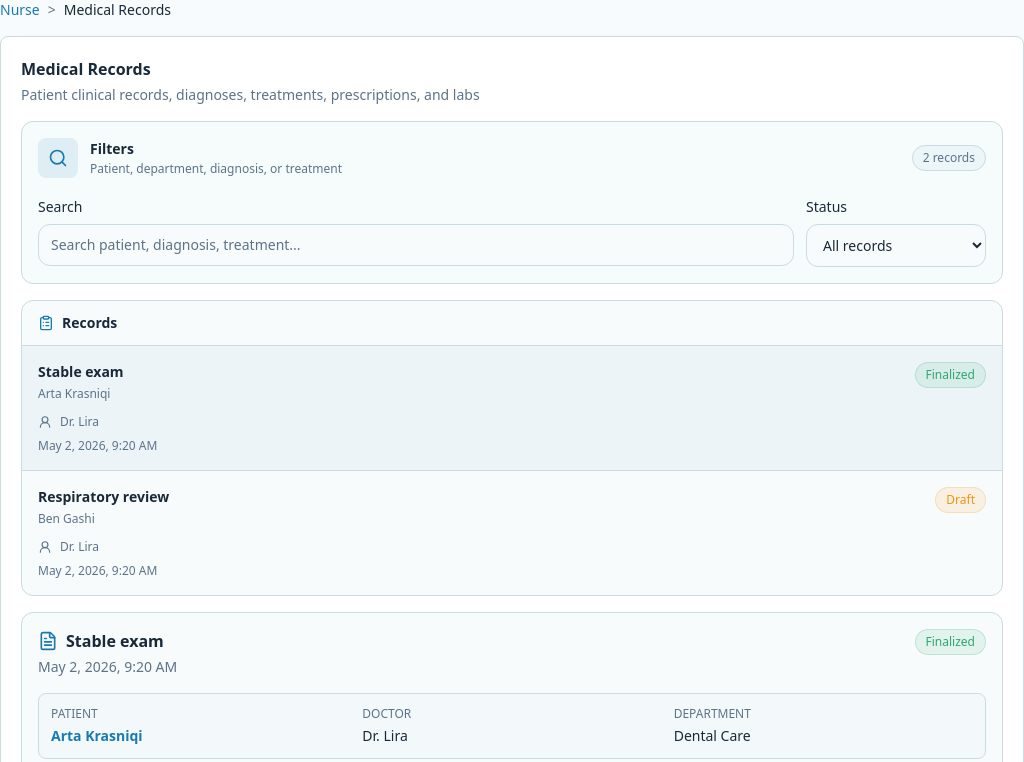
it: NurseMedicalRecordsPage › filters records by status and search text
Expected: the text "Stable exam" is shown, [38,362,124,382]
Expected: the text "Respiratory review" is shown, [38,487,169,507]
Select "Draft" in the dropdown labelled "Status". click: (896, 246)
box: [806,224,986,267]
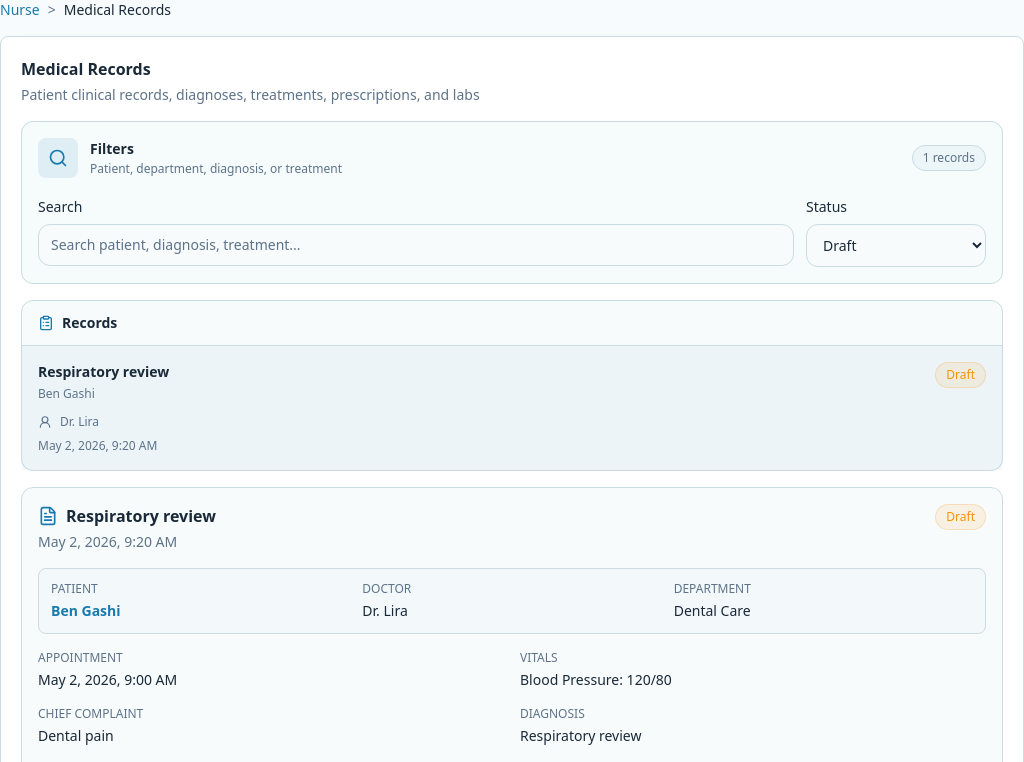
Expected: the 1st text "Respiratory review" is shown, [38,362,169,382]
Result: no links "Stable exam" are shown
Type "missing diagnosis" into the field labelled "Search". click: (416, 245)
box: [38,224,794,266]
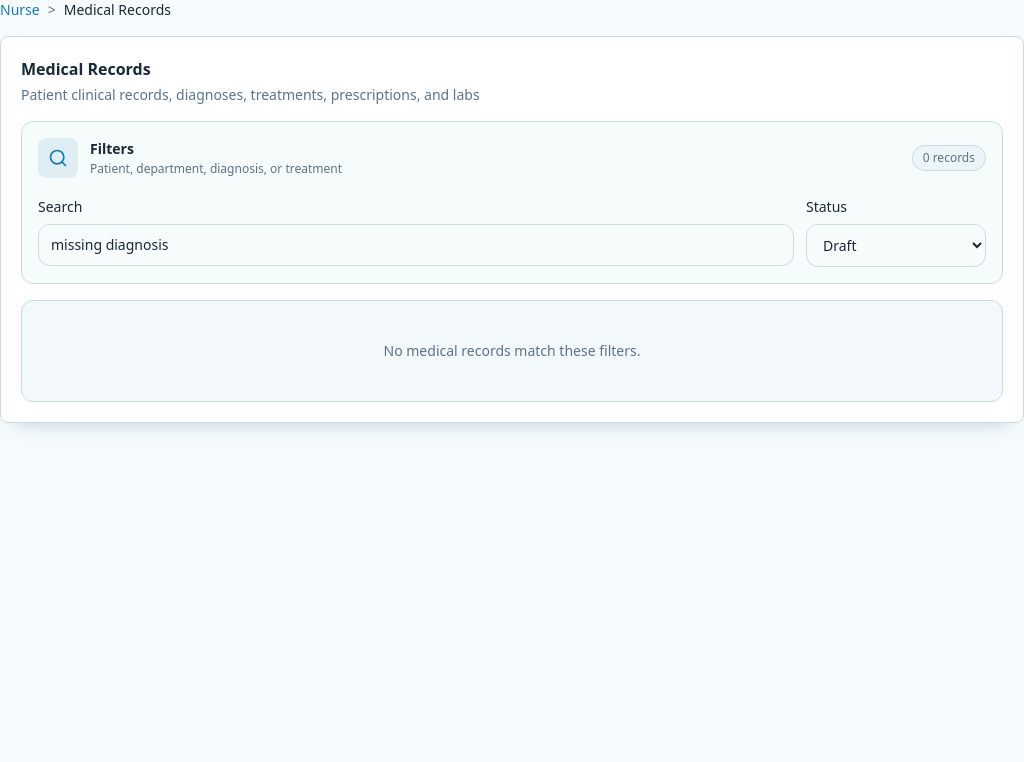
Result: the text "No medical records match these filters." is shown at [21,300,1003,402]
